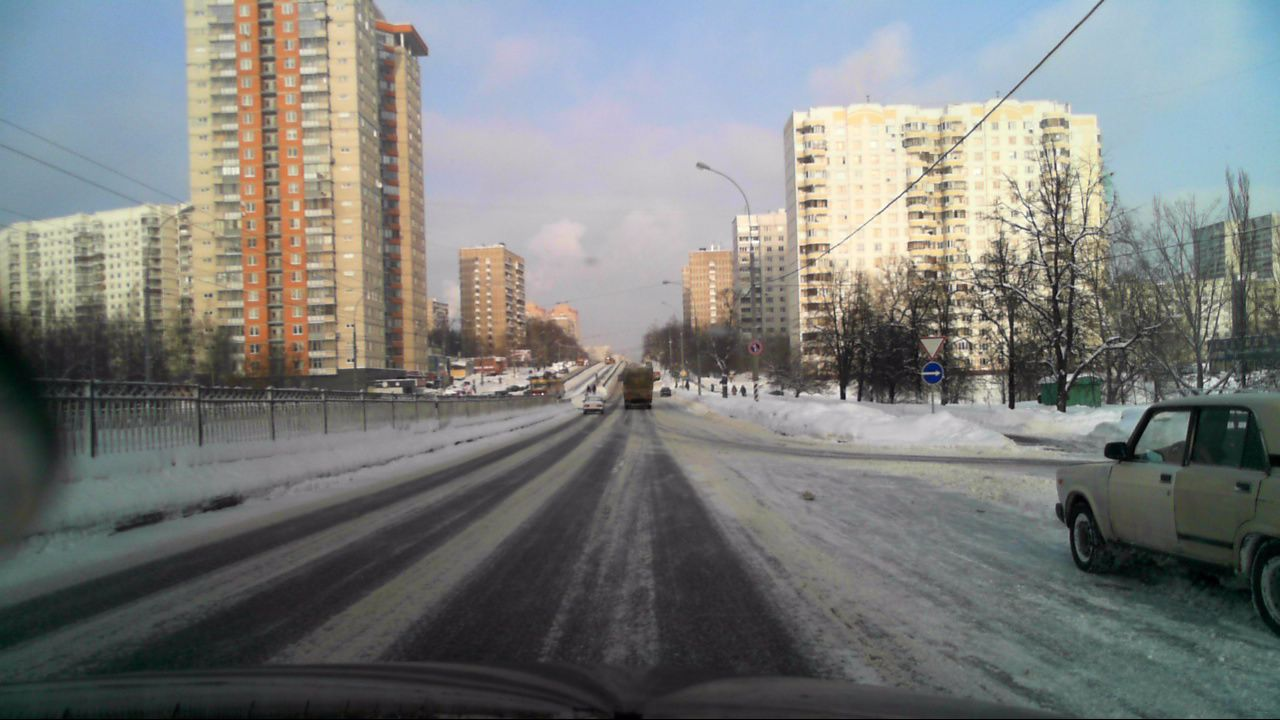Turn Right: (921, 361, 943, 384)
